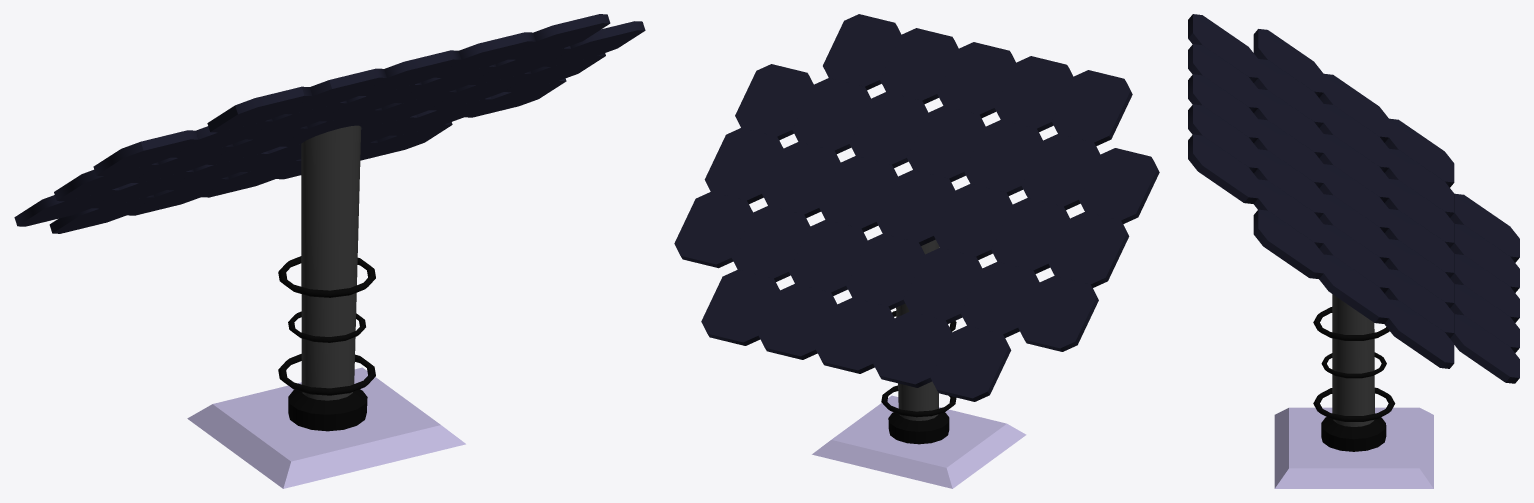
Rendered from KF_Kalonji_SM_Roof_SolarPanel_01.fbx.
The picture shows the model from 3 angles, left to right: view 1: azimuth 30°, elevation 25°; view 2: azimuth 150°, elevation 25°; view 3: azimuth 270°, elevation 25°; orthographic projection. The views are drawn at different scales.
Parts seen in each view (by area): view 1: Panel, stick, Stand, circle; view 2: Panel, Stand, stick, circle; view 3: Panel, Stand, stick, circle.
Boxes of the visible parts, x1,y1,x2,y2 form: Panel: [14, 14, 645, 233]; stick: [288, 125, 367, 431]; Stand: [187, 367, 465, 488]; circle: [278, 256, 375, 395]; Panel: [674, 14, 1159, 401]; Stand: [812, 395, 1026, 488]; stick: [888, 239, 949, 444]; circle: [881, 311, 956, 417]; Panel: [1188, 14, 1519, 383]; Stand: [1274, 407, 1433, 488]; stick: [1321, 294, 1386, 451]; circle: [1313, 307, 1395, 421].
Bounding box in the file's own units: 125 × 102 × 82.8.
